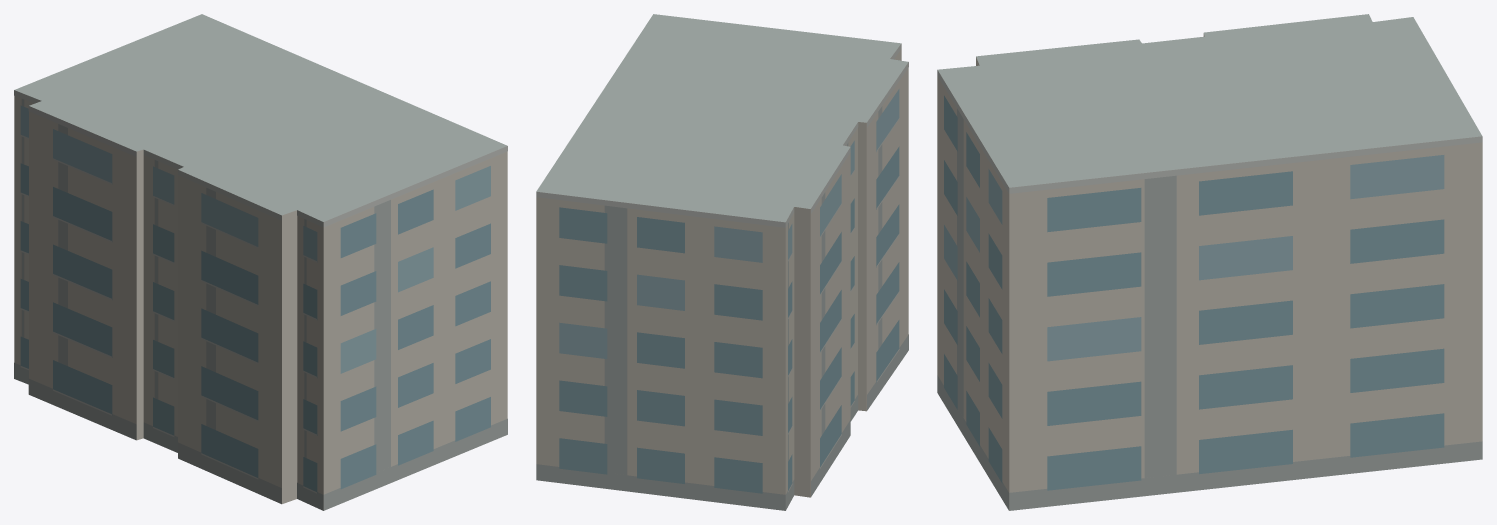
Rendered from survey-upis-32562129.glb.
The picture shows the model from 3 angles, left to right: view 1: azimuth 30°, elevation 25°; view 2: azimuth 150°, elevation 25°; view 3: azimuth 270°, elevation 25°; orthographic projection. The views are drawn at different scales.
Visible parts, largest first — view 1: survey-upis-32562129.tmp; view 2: survey-upis-32562129.tmp; view 3: survey-upis-32562129.tmp.
Boxes of the visible parts, x1,y1,x2,y2 form: survey-upis-32562129.tmp: (14, 14, 507, 510); survey-upis-32562129.tmp: (536, 14, 908, 510); survey-upis-32562129.tmp: (937, 14, 1482, 510).
Size of the model in its own units: 14.89 by 12.9 by 19.73.
